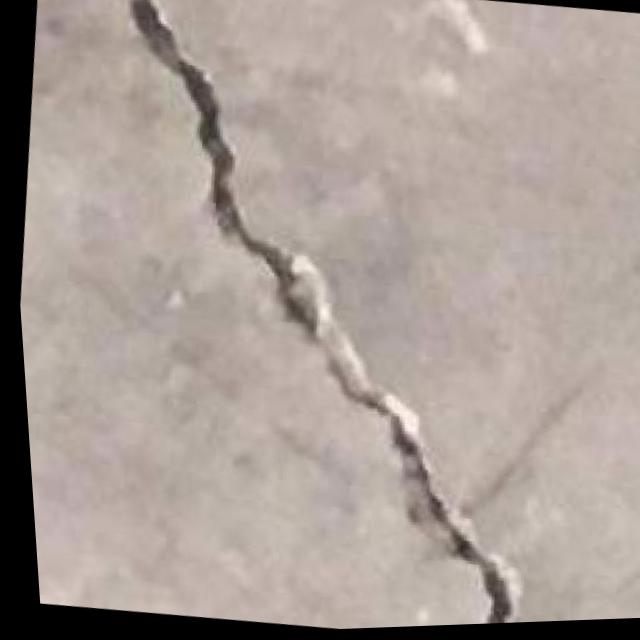Crack: (35, 0, 604, 639)
